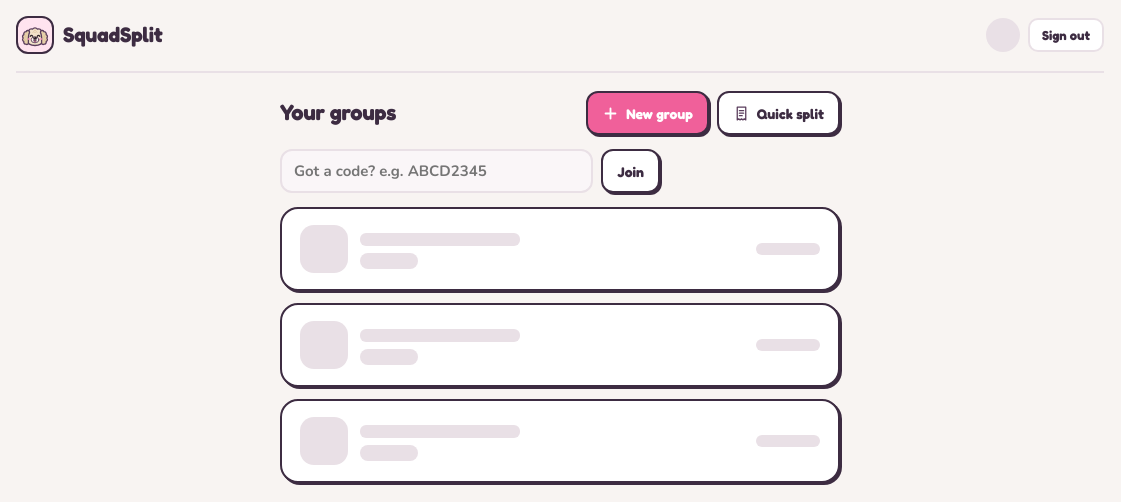
Test: Groups page › join with a code › explains a code that is too short and stays put
This screenshot has width=1121, height=502.
Type "ABC234" into the field named "Invite code".
click(437, 171); type("ABC234")  # box [280,149,593,193]
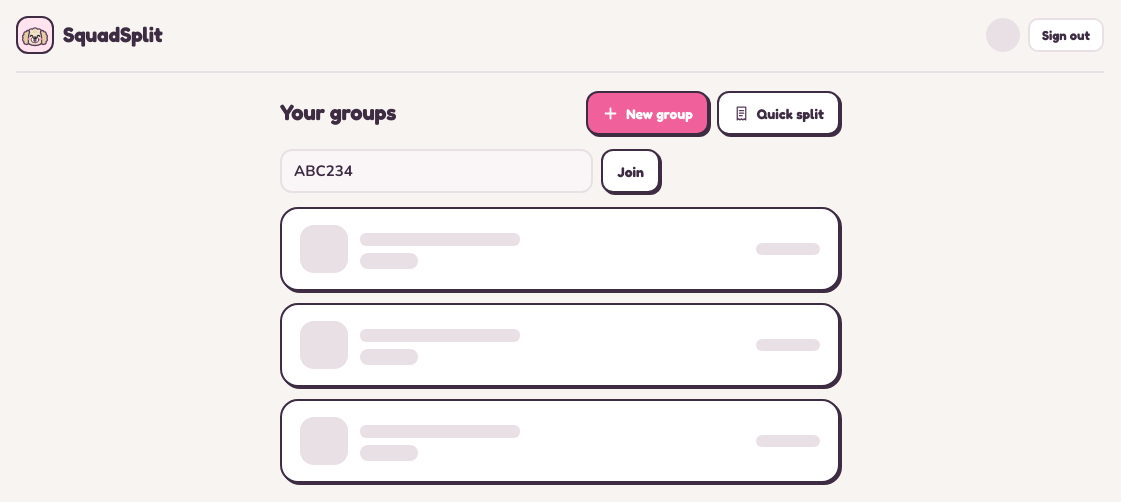
Click the button "Join".
click(631, 171)  # box [601,149,660,193]
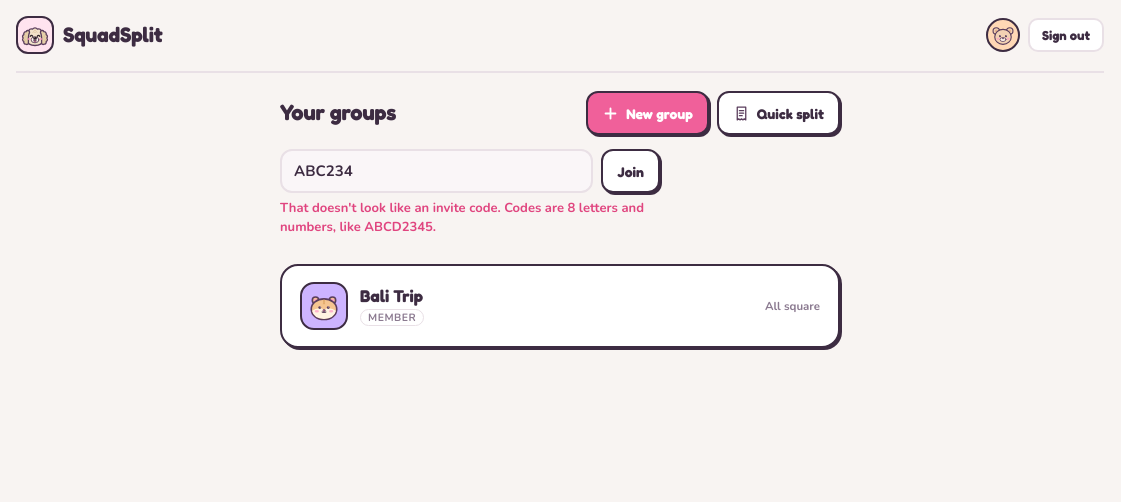
Check: the message shows "Codes are 8 letters and numbers, like ABCD2345.", box [280,199,644,236]
